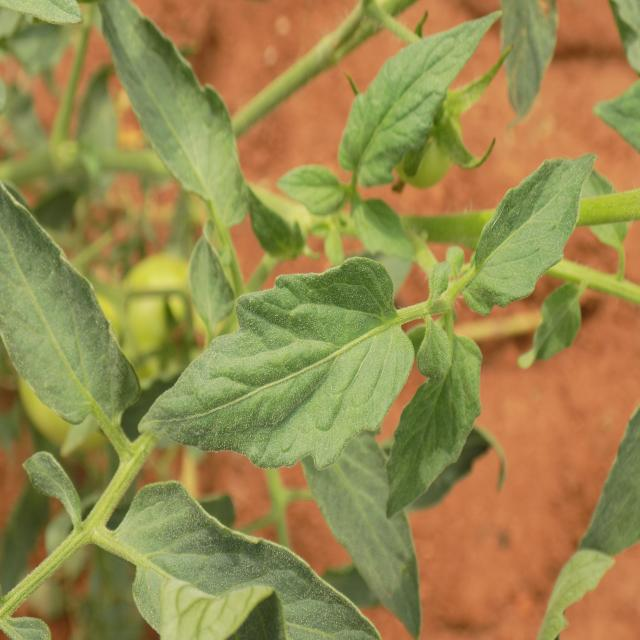tomato_healthy: (140, 255, 417, 472), (111, 482, 378, 640), (96, 2, 250, 232), (0, 182, 134, 439), (337, 8, 499, 184), (468, 152, 598, 310)
